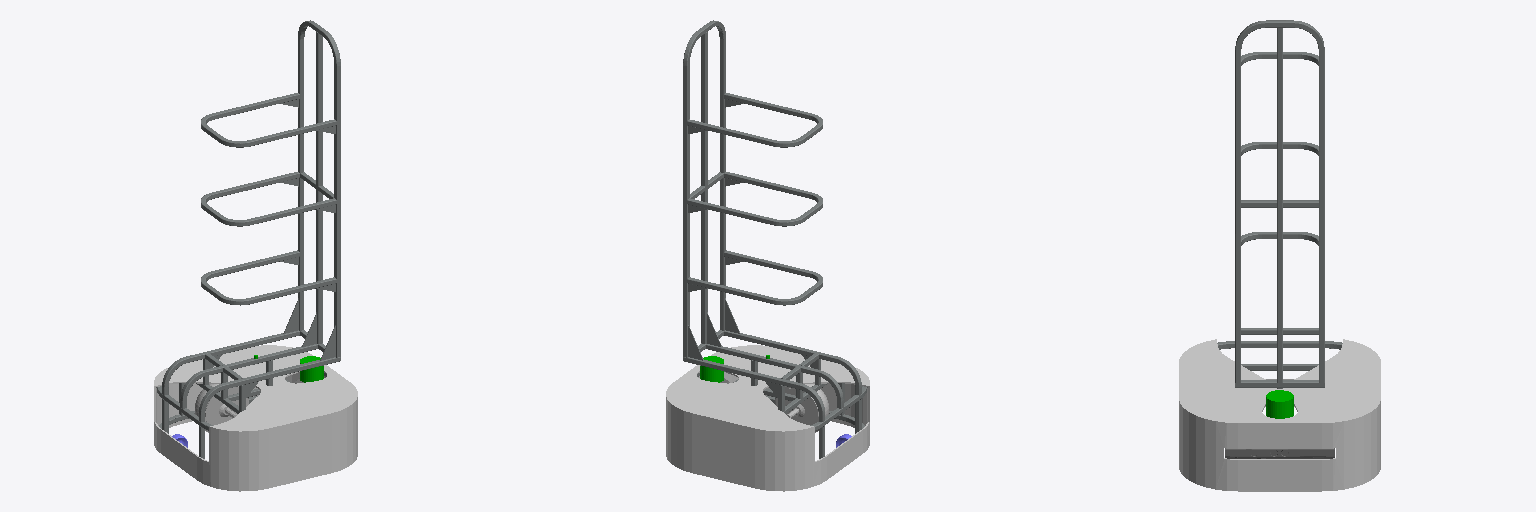
robot.urdf — waiteronix:
<robot name="waiteronix">
  <!-- This URDF was automatically created by SolidWorks to URDF Exporter! Originally created by [author] ([email redacted]) 
     Commit Version: 1.6.0-4-g7f85cfe  Build Version: 1.6.7995.38578
     For more information, please see http://wiki.ros.org/sw_urdf_exporter -->

  
  <link
    name="base_link">
    <inertial>
      <origin
        xyz="0.047332 6.6722E-08 0.43205"
        rpy="0 0 0" />
      <mass
        value="7.2595" />
      <inertia
        ixx="0.2352"
        ixy="-3.3315E-09"
        ixz="-0.0013775"
        iyy="0.23491"
        iyz="1.1095E-10"
        izz="0.18376" />
     </inertial>
     <visual>
      <origin
        xyz="0 0 0"
        rpy="0 0 0" />
      <geometry>
        <mesh
          filename="package://waiteronix/meshes/base_link.STL" />
      </geometry>
      <material
        name="">
        <color
          rgba="0.52941 0.54902 0.54902 1" />
      </material>
     </visual>
    <collision>
      <origin
        xyz="0 0 0"
        rpy="0 0 0" />
      <geometry>
        <mesh
          filename="package://waiteronix/meshes/base_link.STL" />
      </geometry>
    </collision>
  </link>
  
  <link
    name="Body">
    <inertial>
      <origin
        xyz="0.030377 8.5895E-16 0.11943"
        rpy="0 0 0" />
      <mass
        value="5.7583" />
      <inertia
        ixx="0.23029"
        ixy="-3.4648E-17"
        ixz="-0.0068726"
        iyy="0.17581"
        iyz="-2.2779E-17"
        izz="0.35786" />
    </inertial>
    <visual>
      <origin
        xyz="0 0 0"
        rpy="0 0 0" />
      <geometry>
        <mesh
          filename="package://waiteronix/meshes/Body.STL" />
      </geometry>
      <material
        name="">
        <color
          rgba="0.84706 0.84706 0.84706 1" />
      </material>
    </visual>
    <collision>
      <origin
        xyz="0 0 0"
        rpy="0 0 0" />
      <geometry>
        <mesh
          filename="package://waiteronix/meshes/Body.STL" />
      </geometry>
    </collision>
  </link>
  <joint
    name="Body_Joint"
    type="fixed">
    <origin
      xyz="0 0 0"
      rpy="0 0 0" />
    <parent
      link="base_link" />
    <child
      link="Body" />
    <axis
      xyz="0 0 0" />
  </joint>
  <link
    name="Right_Wheel">
    <inertial>
      <origin
        xyz="2.5996E-07 0.037854 6.57E-06"
        rpy="0 0 0" />
      <mass
        value="1.21" />
      <inertia
        ixx="0.0022228"
        ixy="-1.8762E-08"
        ixz="1.5736E-09"
        iyy="0.0036326"
        iyz="-4.7418E-07"
        izz="0.0022228" />
    </inertial>
    <visual>
      <origin
        xyz="0 0 0"
        rpy="0 0 0" />
      <geometry>
        <mesh
          filename="package://waiteronix/meshes/Right_Wheel.STL" />
      </geometry>
      <material
        name="">
        <color
          rgba="0.75294 0.75294 0.75294 1" />
      </material>
    </visual>
    <collision>
      <origin
        xyz="0 0 0"
        rpy="0 0 0" />
      <geometry>
        <mesh
          filename="package://waiteronix/meshes/Right_Wheel.STL" />
      </geometry>
    </collision>
  </link>
  <joint
    name="Right_Wheel_Joint"
    type="continuous">
    <origin
      xyz="-0.0087223 -0.224 0.054"
      rpy="0 0 0" />
    <parent
      link="base_link" />
    <child
      link="Right_Wheel" />
    <axis
      xyz="0 -1 0" />
    <limit
      effort="40"
      velocity="10" />
  </joint>
  <link
    name="Left_Wheel">
    <inertial>
      <origin
        xyz="2.5996E-07 -0.037854 6.57E-06"
        rpy="0 0 0" />
      <mass
        value="1.21" />
      <inertia
        ixx="0.0022228"
        ixy="1.8762E-08"
        ixz="1.5736E-09"
        iyy="0.0036326"
        iyz="4.7418E-07"
        izz="0.0022228" />
    </inertial>
    <visual>
      <origin
        xyz="0 0 0"
        rpy="0 0 0" />
      <geometry>
        <mesh
          filename="package://waiteronix/meshes/Left_Wheel.STL" />
      </geometry>
      <material
        name="">
        <color
          rgba="0.75294 0.75294 0.75294 1" />
      </material>
    </visual>
    <collision>
      <origin
        xyz="0 0 0"
        rpy="0 0 0" />
      <geometry>
        <mesh
          filename="package://waiteronix/meshes/Left_Wheel.STL" />
      </geometry>
    </collision>
  </link>
  <joint
    name="Left_Wheel_Joint"
    type="continuous">
    <origin
      xyz="-0.0087223 0.224 0.054"
      rpy="0 0 0" />
    <parent
      link="base_link" />
    <child
      link="Left_Wheel" />
    <axis
      xyz="0 -1 0" />
    <limit
      effort="40"
      velocity="10" />
  </joint>
  <link
    name="Camera">
    <inertial>
      <origin
        xyz="-0.027769 0.064365 -0.00028163"
        rpy="0 0 0" />
      <mass
        value="0.55893" />
      <inertia
        ixx="0.0029329"
        ixy="-9.3578E-07"
        ixz="8.9611E-08"
        iyy="0.00023177"
        iyz="-9.4508E-09"
        izz="0.0030272" />
    </inertial>
    <visual>
      <origin
        xyz="0 0 0"
        rpy="0 0 0" />
      <geometry>
        <mesh
          filename="package://waiteronix/meshes/Camera.STL" />
      </geometry>
      <material
        name="">
        <color
          rgba="0.49412 0.49412 0.49412 1" />
      </material>
    </visual>
    <collision>
      <origin
        xyz="0 0 0"
        rpy="0 0 0" />
      <geometry>
        <mesh
          filename="package://waiteronix/meshes/Camera.STL" />
      </geometry>
    </collision>
  </link>
  <joint
    name="Camera_Joint"
    type="fixed">
    <origin
      xyz="0.24478 -0.064307 0.0965"
      rpy="0 0 0" />
    <parent
      link="base_link" />
    <child
      link="Camera" />
    <axis
      xyz="1 0 0" />
  </joint>
  <link
    name="Lidar">
    <inertial>
      <origin
        xyz="8.3267E-17 -1.9976E-15 -0.013917"
        rpy="0 0 0" />
      <mass
        value="0.12331" />
      <inertia
        ixx="8.5672E-05"
        ixy="-3.3087E-22"
        ixz="-3.3193E-19"
        iyy="8.5672E-05"
        iyz="-1.4388E-23"
        izz="0.00010203" />
    </inertial>
    <visual>
      <origin
        xyz="0 0 0"
        rpy="0 0 0" />
      <geometry>
        <mesh
          filename="package://waiteronix/meshes/Lidar.STL" />
      </geometry>
      <material
        name="">
        <color
          rgba="0 0.75294 0 1" />
      </material>
    </visual>
    <collision>
      <origin
        xyz="0 0 0"
        rpy="0 0 0" />
      <geometry>
        <mesh
          filename="package://waiteronix/meshes/Lidar.STL" />
      </geometry>
    </collision>
  </link>
  <joint
    name="Lidar_Joint"
    type="fixed">
    <origin
      xyz="0.185 0 0.21663"
      rpy="0 0 0" />
    <parent
      link="base_link" />
    <child
      link="Lidar" />
    <axis
      xyz="0 0 1" />
  </joint>
  <link
    name="IMU">
    <inertial>
      <origin
        xyz="-1.8518E-16 -6.2326E-15 -0.005"
        rpy="0 0 0" />
      <mass
        value="0.0007854" />
      <inertia
        ixx="1.1454E-08"
        ixy="1.831E-25"
        ixz="-3.3736E-23"
        iyy="1.1454E-08"
        iyz="1.7323E-23"
        izz="9.8175E-09" />
    </inertial>
    <visual>
      <origin
        xyz="0 0 0"
        rpy="0 0 0" />
      <geometry>
        <mesh
          filename="package://waiteronix/meshes/IMU.STL" />
      </geometry>
      <material
        name="">
        <color
          rgba="0 0.75294 0 1" />
      </material>
    </visual>
    <collision>
      <origin
        xyz="0 0 0"
        rpy="0 0 0" />
      <geometry>
        <mesh
          filename="package://waiteronix/meshes/IMU.STL" />
      </geometry>
    </collision>
  </link>
  <joint
    name="IMU_Joint"
    type="fixed">
    <origin
      xyz="0 0 0.289"
      rpy="0 0 0" />
    <parent
      link="base_link" />
    <child
      link="IMU" />
    <axis
      xyz="0 0 1" />
  </joint>
  <link
    name="F_W_Front_Left">
    <inertial>
      <origin
        xyz="0.13868 0.123 -1.4438E-14"
        rpy="0 0 0" />
      <mass
        value="0.059636" />
      <inertia
        ixx="1.6012E-05"
        ixy="-1.927E-20"
        ixz="-9.0002E-22"
        iyy="2.7287E-05"
        iyz="-2.1253E-20"
        izz="1.6012E-05" />
    </inertial>
    <visual>
      <origin
        xyz="0 0 0"
        rpy="0 0 0" />
      <geometry>
        <mesh
          filename="package://waiteronix/meshes/F_W_Front_Left.STL" />
      </geometry>
      <material
        name="">
        <color
          rgba="0.50196 0.50196 1 1" />
      </material>
    </visual>
    <collision>
      <origin
        xyz="0 0 0"
        rpy="0 0 0" />
      <geometry>
        <mesh
          filename="package://waiteronix/meshes/F_W_Front_Left.STL" />
      </geometry>
    </collision>
  </link>
  <joint
    name="F_W_Front_Left_Joint"
    type="fixed">
    <origin
      xyz="0 0 0"
      rpy="0 0 0" />
    <parent
      link="base_link" />
    <child
      link="F_W_Front_Left" />
    <axis
      xyz="0 1 0" />
  </joint>
  <link
    name="F_W_Front_Right">
    <inertial>
      <origin
        xyz="0.13868 -0.123 2.4819E-14"
        rpy="0 0 0" />
      <mass
        value="0.059636" />
      <inertia
        ixx="1.6012E-05"
        ixy="5.4827E-21"
        ixz="-3.2336E-22"
        iyy="2.7287E-05"
        iyz="-3.8765E-20"
        izz="1.6012E-05" />
    </inertial>
    <visual>
      <origin
        xyz="0 0 0"
        rpy="0 0 0" />
      <geometry>
        <mesh
          filename="package://waiteronix/meshes/F_W_Front_Right.STL" />
      </geometry>
      <material
        name="">
        <color
          rgba="0.50196 0.50196 1 1" />
      </material>
    </visual>
    <collision>
      <origin
        xyz="0 0 0"
        rpy="0 0 0" />
      <geometry>
        <mesh
          filename="package://waiteronix/meshes/F_W_Front_Right.STL" />
      </geometry>
    </collision>
  </link>
  <joint
    name="F_W_Front_Right_Joint"
    type="fixed">
    <origin
      xyz="0 0 0"
      rpy="0 0 0" />
    <parent
      link="base_link" />
    <child
      link="F_W_Front_Right" />
    <axis
      xyz="0 1 0" />
  </joint>
  <link
    name="F_W_Back_Left">
    <inertial>
      <origin
        xyz="-0.19 0.1215 -1.622E-14"
        rpy="0 0 0" />
      <mass
        value="0.059636" />
      <inertia
        ixx="1.6012E-05"
        ixy="2.3169E-21"
        ixz="-1.6362E-21"
        iyy="2.7287E-05"
        iyz="-4.46E-21"
        izz="1.6012E-05" />
    </inertial>
    <visual>
      <origin
        xyz="0 0 0"
        rpy="0 0 0" />
      <geometry>
        <mesh
          filename="package://waiteronix/meshes/F_W_Back_Left.STL" />
      </geometry>
      <material
        name="">
        <color
          rgba="0.50196 0.50196 1 1" />
      </material>
    </visual>
    <collision>
      <origin
        xyz="0 0 0"
        rpy="0 0 0" />
      <geometry>
        <mesh
          filename="package://waiteronix/meshes/F_W_Back_Left.STL" />
      </geometry>
    </collision>
  </link>
  <joint
    name="F_W_Back_Left_Joint"
    type="fixed">
    <origin
      xyz="0 0 0"
      rpy="0 0 0" />
    <parent
      link="base_link" />
    <child
      link="F_W_Back_Left" />
    <axis
      xyz="0 1 0" />
  </joint>
  <link
    name="F_W_Back_Right">
    <inertial>
      <origin
        xyz="-0.19 -0.1215 -1.6079E-14"
        rpy="0 0 0" />
      <mass
        value="0.059636" />
      <inertia
        ixx="1.6012E-05"
        ixy="2.9984E-21"
        ixz="-1.6638E-21"
        iyy="2.7287E-05"
        iyz="-1.7395E-22"
        izz="1.6012E-05" />
    </inertial>
    <visual>
      <origin
        xyz="0 0 0"
        rpy="0 0 0" />
      <geometry>
        <mesh
          filename="package://waiteronix/meshes/F_W_Back_Right.STL" />
      </geometry>
      <material
        name="">
        <color
          rgba="0.50196 0.50196 1 1" />
      </material>
    </visual>
    <collision>
      <origin
        xyz="0 0 0"
        rpy="0 0 0" />
      <geometry>
        <mesh
          filename="package://waiteronix/meshes/F_W_Back_Right.STL" />
      </geometry>
    </collision>
  </link>
  <joint
    name="F_W_Back_Right_Joint"
    type="fixed">
    <origin
      xyz="0 0 0"
      rpy="0 0 0" />
    <parent
      link="base_link" />
    <child
      link="F_W_Back_Right" />
    <axis
      xyz="0 1 0" />
  </joint>
  <gazebo reference="Camera">
  <sensor name="Camera_camera" type="depth">
    <update_rate>20</update_rate>
    <camera>
      <horizontal_fov>1.047198</horizontal_fov>
      <image>
        <width>640</width>
        <height>480</height>
        <format>R8G8B8</format>
      </image>
      <clip>
        <near>0.05</near>
        <far>3</far>
      </clip>
    </camera>
    <plugin name="Camera_controller" filename="libgazebo_ros_openni_kinect.so">
      <baseline>0.2</baseline>
      <alwaysOn>true</alwaysOn>
      <updateRate>1.0</updateRate>
      <cameraName>Camera_ir</cameraName>
      <imageTopicName>/Camera/color/image_raw</imageTopicName>
      <cameraInfoTopicName>/Camera/color/camera_info</cameraInfoTopicName>
      <depthImageTopicName>/Camera/depth/image_raw</depthImageTopicName>
      <depthImageInfoTopicName>/Camera/depth/camera_info</depthImageInfoTopicName>
      <pointCloudTopicName>/Camera/depth/points</pointCloudTopicName>
      <frameName>camera_link</frameName>
      <pointCloudCutoff>0.5</pointCloudCutoff>
      <pointCloudCutoffMax>3.0</pointCloudCutoffMax>
      <distortionK1>0.00000001</distortionK1>
      <distortionK2>0.00000001</distortionK2>
      <distortionK3>0.00000001</distortionK3>
      <distortionT1>0.00000001</distortionT1>
      <distortionT2>0.00000001</distortionT2>
      <CxPrime>0</CxPrime>
      <Cx>0</Cx>
      <Cy>0</Cy>
      <focalLength>0</focalLength>
      <hackBaseline>0</hackBaseline>
    </plugin>
  </sensor>
   </gazebo>
    <gazebo reference="Lidar">
        <sensor type="ray" name="laser" >
            <pose> 0 0 0 0 0 0 </pose>
            <visualize>true</visualize>
            <update_rate>10</update_rate>
            <ray>
                <scan>
                    <horizontal>
                        <samples>360</samples>
                        <min_angle>-3.14</min_angle>
                        <max_angle>3.14</max_angle>
                    </horizontal>
                </scan>
                <range>
                    <min>0.3</min>
                    <max>12</max>
                </range>
            </ray>
            <plugin name="Lidar_controller" filename="libgazebo_ros_ray_sensor.so">
                 <topicName>/scan</topicName>
                <frame_name>Lidar</frame_name>
            </plugin>
        </sensor>
    </gazebo>
    
 
  
</robot>

--- Render facts (derived) ---
3 views of the same robot in one strip: view 1: azimuth 30°, elevation 25°; view 2: azimuth 150°, elevation 25°; view 3: azimuth 270°, elevation 25° (orthographic).
Robot: waiteronix — 11 links, 10 joints (2 continuous, 8 fixed); root link base_link; default pose: every joint at zero.
Links seen in each view (by area): view 1: Body, base_link, Left_Wheel; view 2: Body, base_link, Right_Wheel; view 3: Body, base_link, Camera, Lidar.
Link boxes in pixels (x1,y1,x2,y2): Body: (154, 345, 357, 491); base_link: (156, 20, 340, 458); Left_Wheel: (195, 384, 248, 432); Body: (666, 345, 869, 491); base_link: (683, 20, 867, 458); Right_Wheel: (775, 384, 828, 432); Body: (1179, 339, 1380, 491); base_link: (1217, 20, 1342, 405); Camera: (1225, 448, 1334, 458); Lidar: (1266, 390, 1293, 418).
Size in the robot's own frame: 0.51 by 0.51 by 1.31 metres.
11 mesh visuals loaded from 11 distinct referenced files (11 binary STL).
